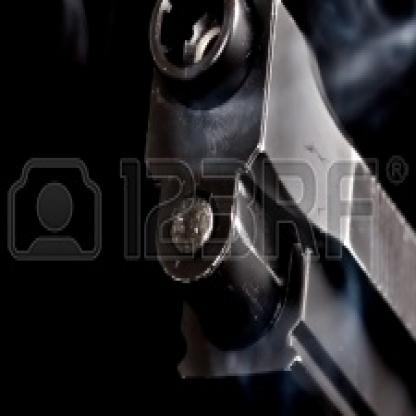gun: (127, 0, 415, 414)
